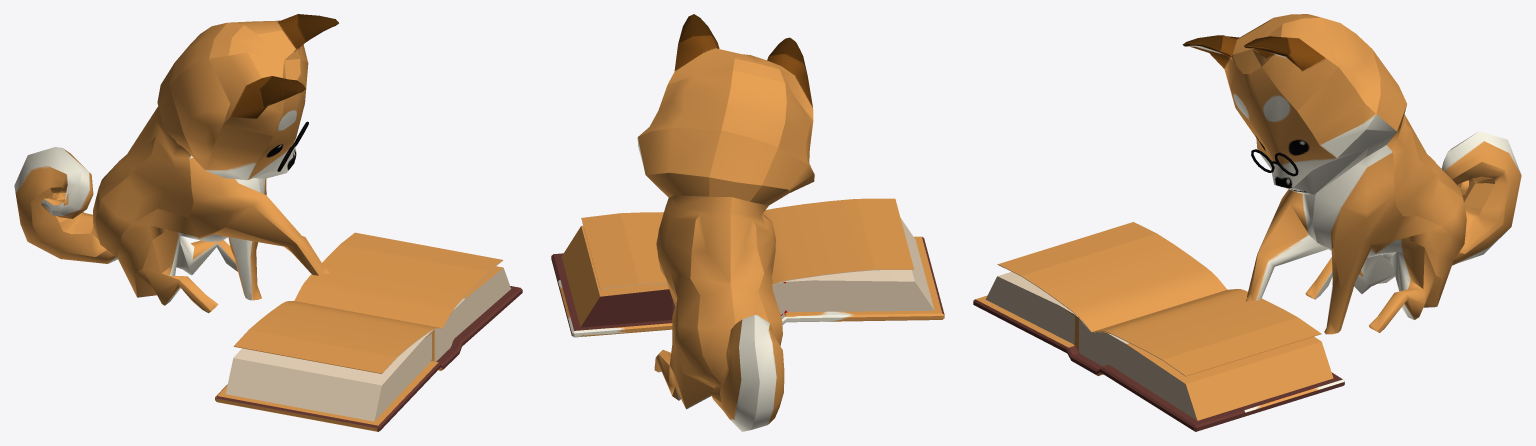
Rendered from book_frame46.obj.
3 views of the same model, side by side, from view 1: azimuth 30°, elevation 25°; view 2: azimuth 150°, elevation 25°; view 3: azimuth 270°, elevation 25° (orthographic). The views are drawn at different scales.
Visible parts, largest first — view 1: StidyGlasses_Computer_Sitting:Sitting:newRigging:BodzL1, polySurface1; view 2: StidyGlasses_Computer_Sitting:Sitting:newRigging:BodzL1, polySurface1; view 3: StidyGlasses_Computer_Sitting:Sitting:newRigging:BodzL1, polySurface1.
Part boxes in pixels (x1,y1,x2,y2): StidyGlasses_Computer_Sitting:Sitting:newRigging:BodzL1: (14, 14, 338, 313); polySurface1: (215, 232, 522, 431); StidyGlasses_Computer_Sitting:Sitting:newRigging:BodzL1: (637, 14, 814, 431); polySurface1: (551, 198, 944, 337); StidyGlasses_Computer_Sitting:Sitting:newRigging:BodzL1: (1182, 14, 1521, 334); polySurface1: (973, 222, 1344, 431).
Size of the model in its own units: 8.96 by 7.03 by 11.29.
4 materials, 4 textured.
